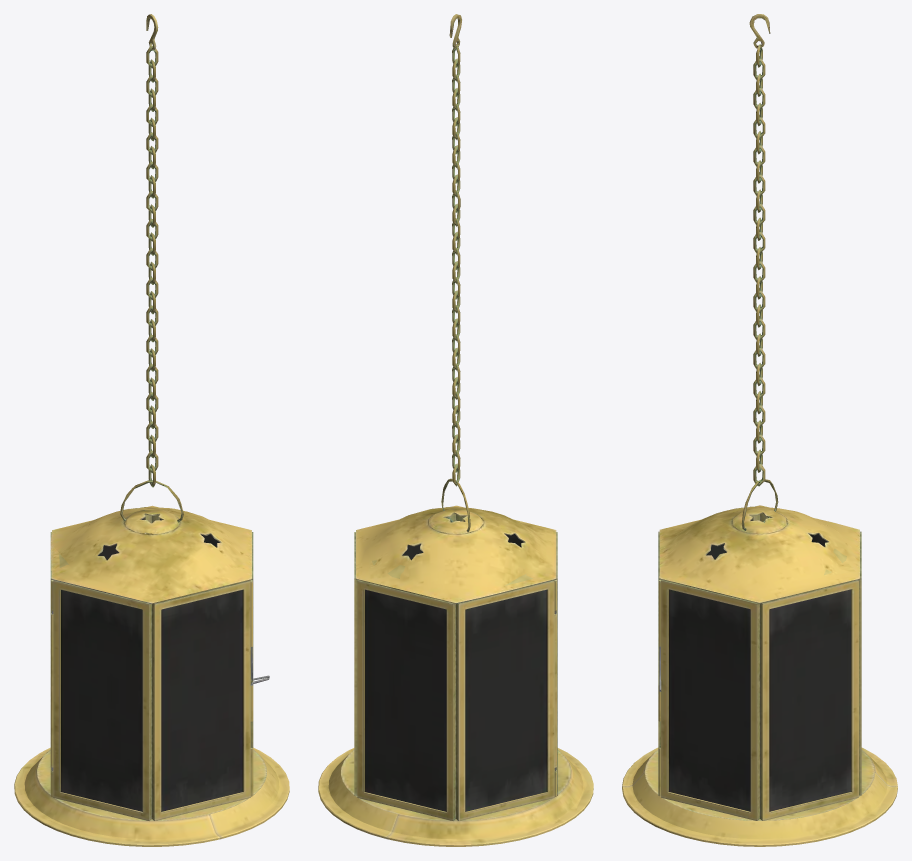
Rendered from diya.glb.
3 views of the same model, side by side, from view 1: azimuth 30°, elevation 25°; view 2: azimuth 150°, elevation 25°; view 3: azimuth 270°, elevation 25° (orthographic).
Visible parts, largest first — view 1: brass_diya_lantern, brass_diya_lantern_connection; view 2: brass_diya_lantern, brass_diya_lantern_connection; view 3: brass_diya_lantern, brass_diya_lantern_connection.
Part boxes in pixels (bbox=[...]): brass_diya_lantern: bbox=[14, 505, 289, 846]; brass_diya_lantern_connection: bbox=[120, 14, 183, 522]; brass_diya_lantern: bbox=[318, 505, 593, 846]; brass_diya_lantern_connection: bbox=[441, 14, 470, 531]; brass_diya_lantern: bbox=[622, 505, 897, 846]; brass_diya_lantern_connection: bbox=[741, 14, 778, 530].
Bounding box in the file's own units: 0.123 × 0.3807 × 0.123.
3 materials, 3 textured.
